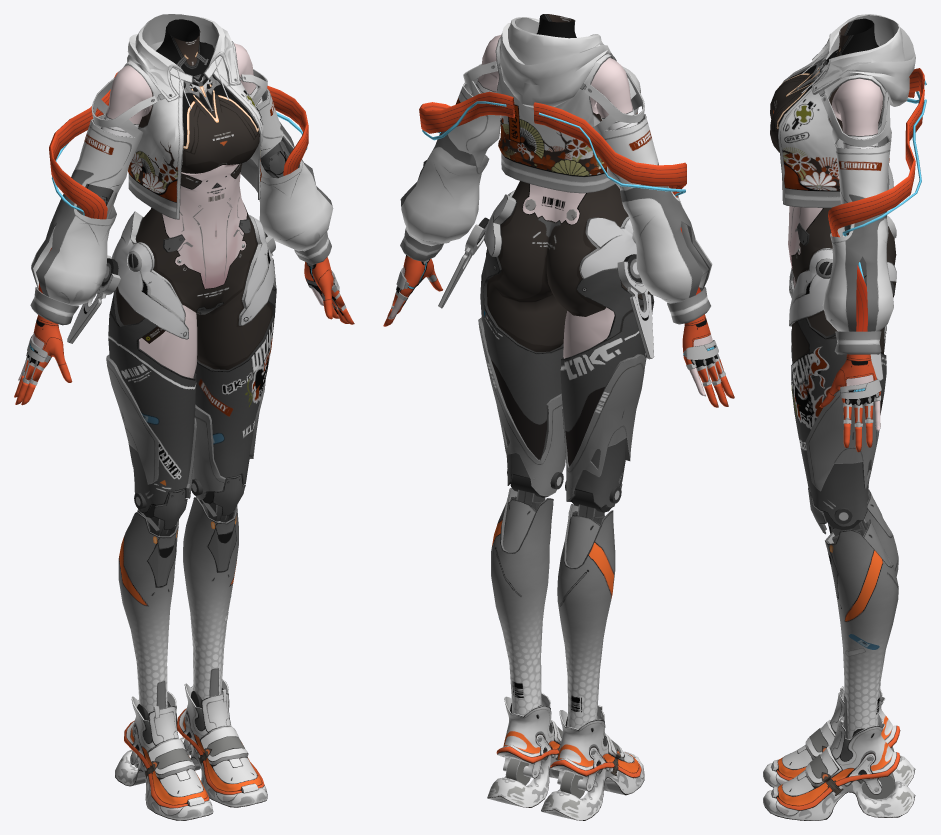
File: FOLGOR.glb
3 views of the same model, side by side, from view 1: azimuth 30°, elevation 25°; view 2: azimuth 150°, elevation 25°; view 3: azimuth 270°, elevation 25° (orthographic). The views are drawn at different scales.
Parts seen in each view (by area): view 1: 八咫 徊闪_mesh; view 2: 八咫 徊闪_mesh; view 3: 八咫 徊闪_mesh.
Boxes of the visible parts, x1,y1,x2,y2 form: 八咫 徊闪_mesh: (14,14,354,820); 八咫 徊闪_mesh: (383,14,734,820); 八咫 徊闪_mesh: (763,14,926,820).
Bounding box in the file's own units: 0.692 × 1.5 × 0.2887.
Materials: 12 (12 with a texture image).
